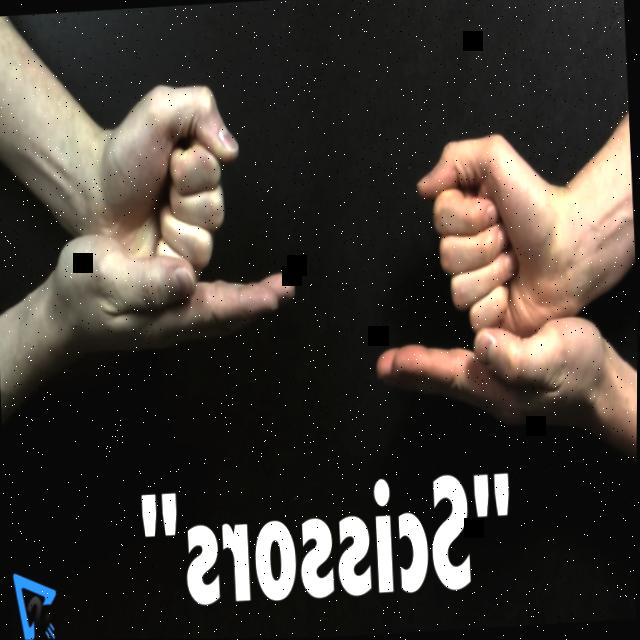Rock: (70, 83, 244, 281), (413, 128, 572, 342)
